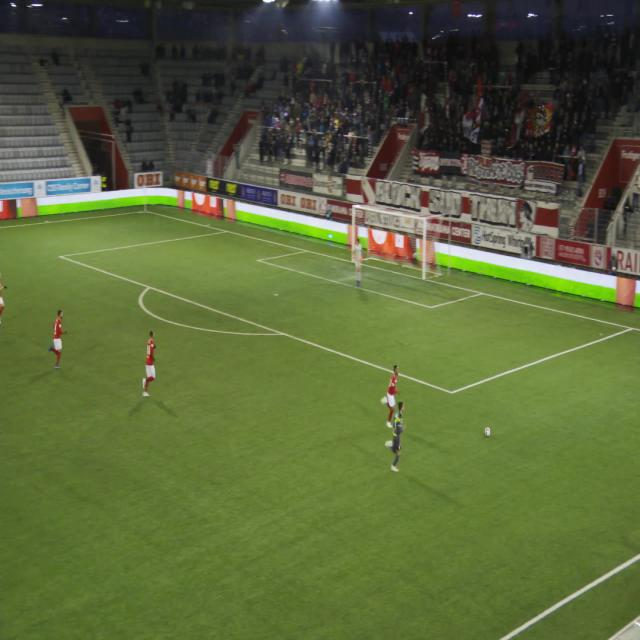Ball: (481, 418, 496, 454)
Player: (384, 395, 411, 485), (382, 363, 404, 430), (141, 328, 160, 403), (46, 302, 68, 364), (350, 229, 367, 292)
